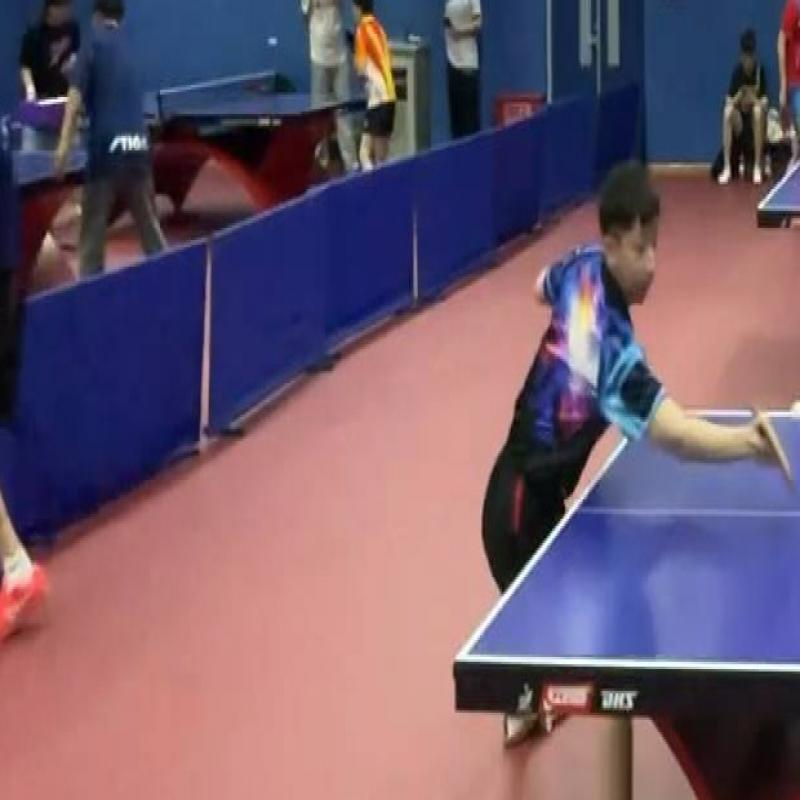bats: (730, 383, 799, 497)
